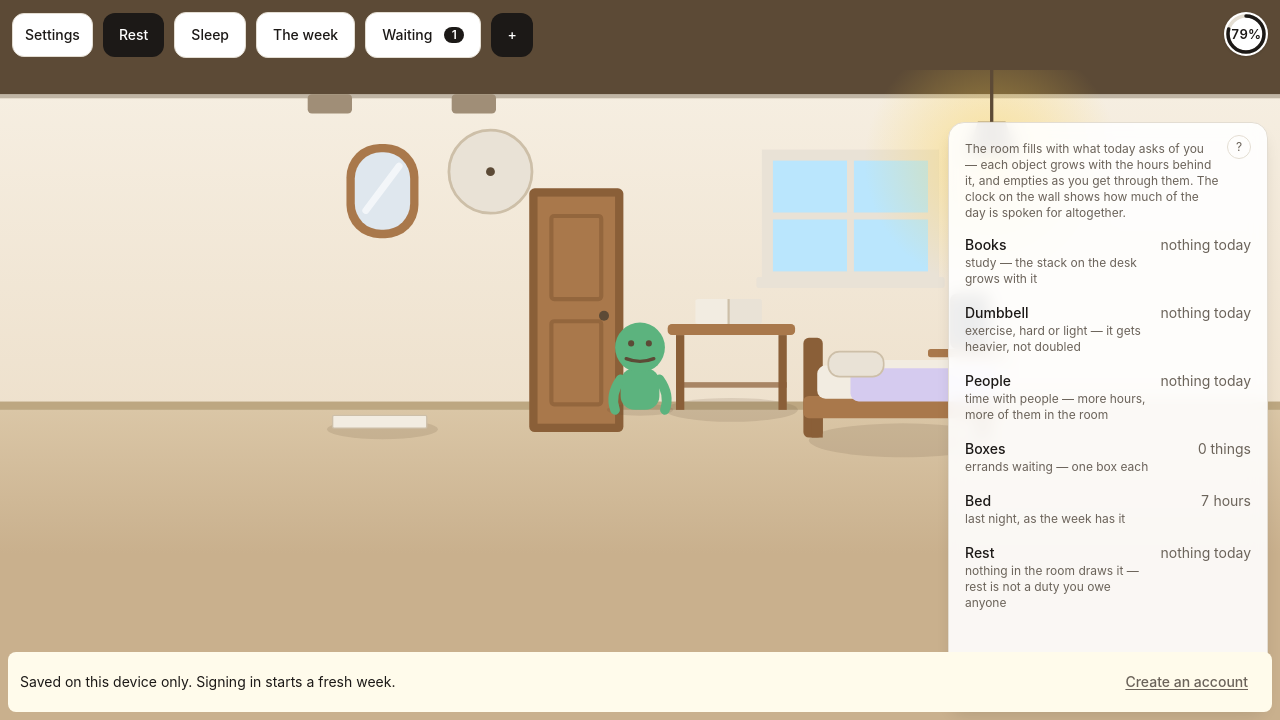
Test: RoomShell with the room › an already-answered block states what was recorded, with no Undo button
Click the button with test id "open-week".
click(306, 35)  # box [256,12,355,58]
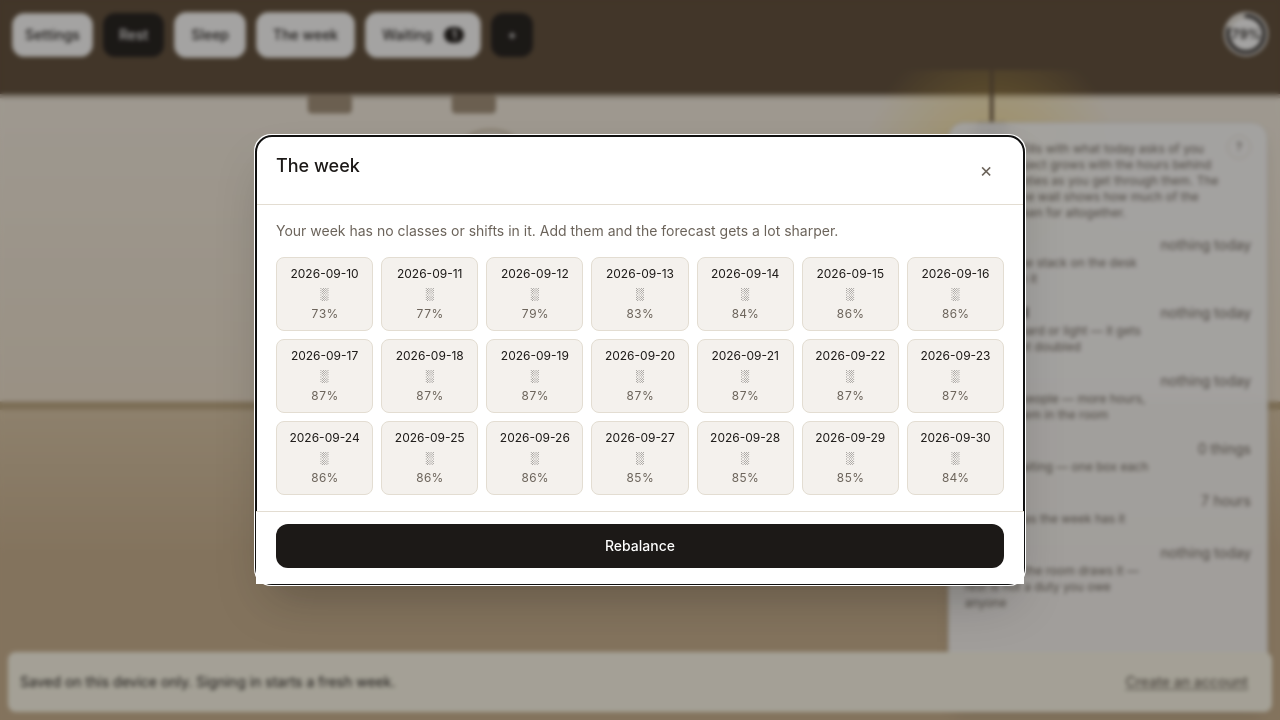
Click the button with test id "day-0".
click(325, 294)  # box [276,257,373,331]
(page scrolled)
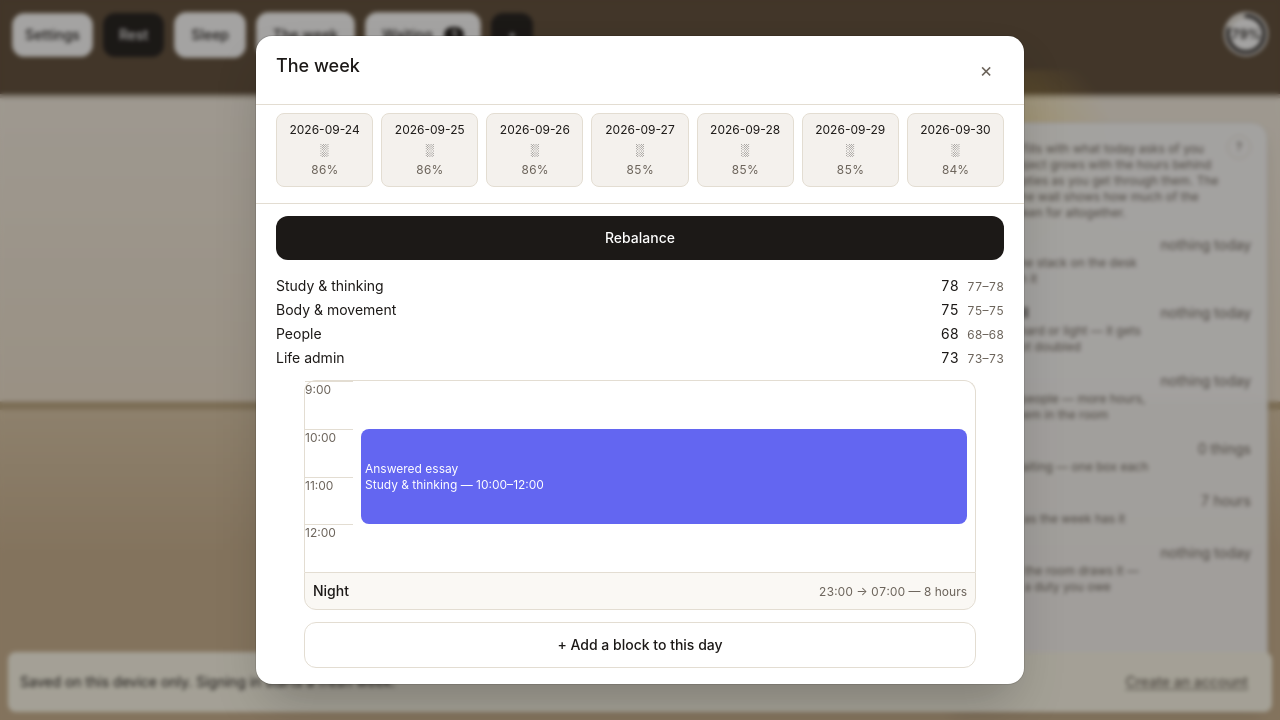
Click the button with test id "block-answered".
click(412, 468)  # box [361,429,967,524]
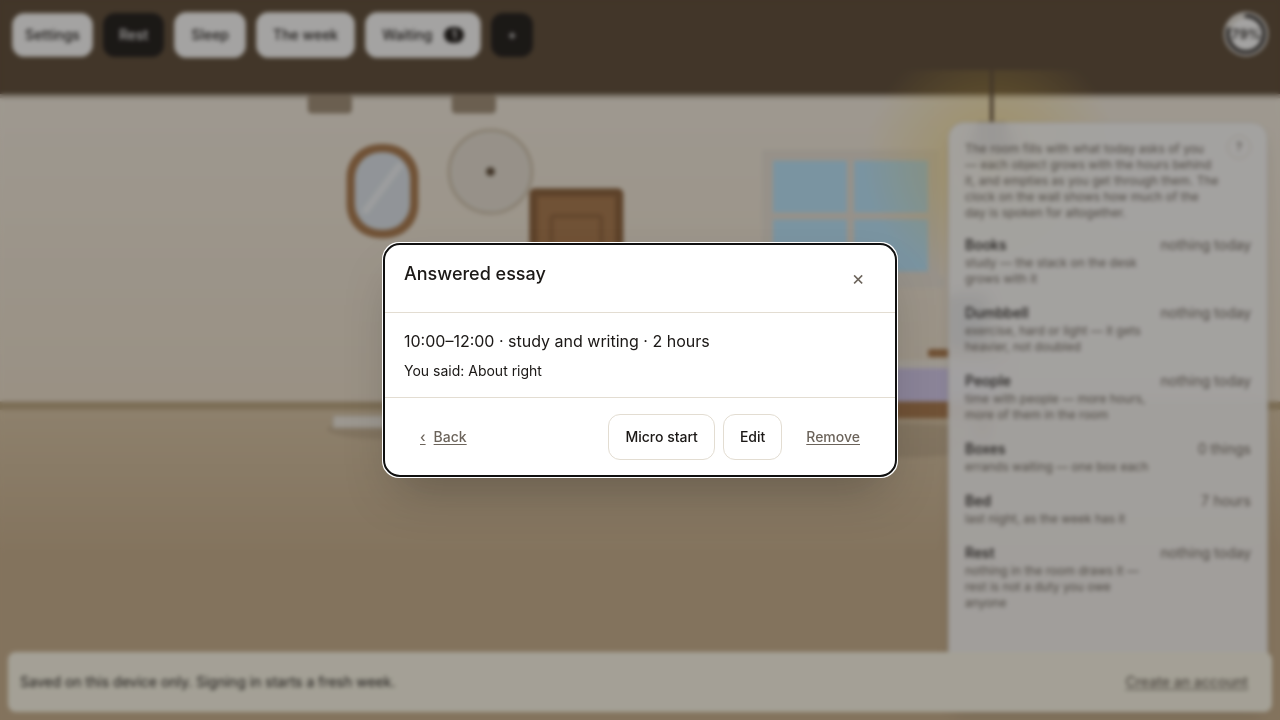
Expected: the text with test id "recorded-answer" reads "You said: About right", [404,362,542,379]
